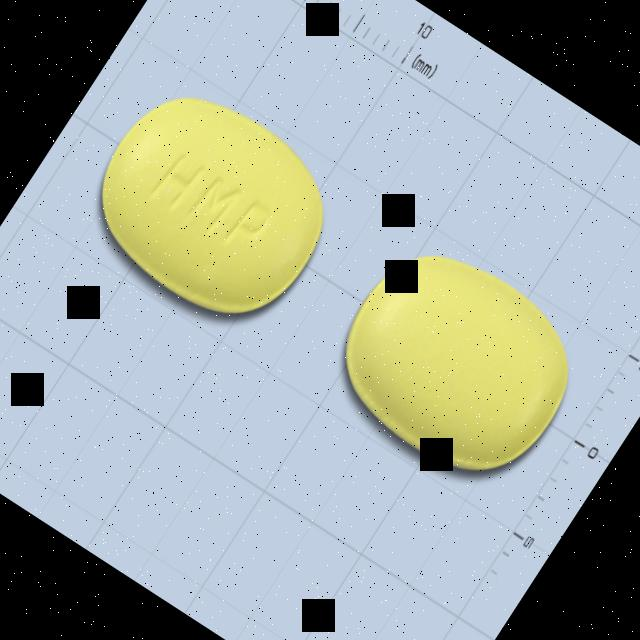Clari: (61, 59, 365, 354)
